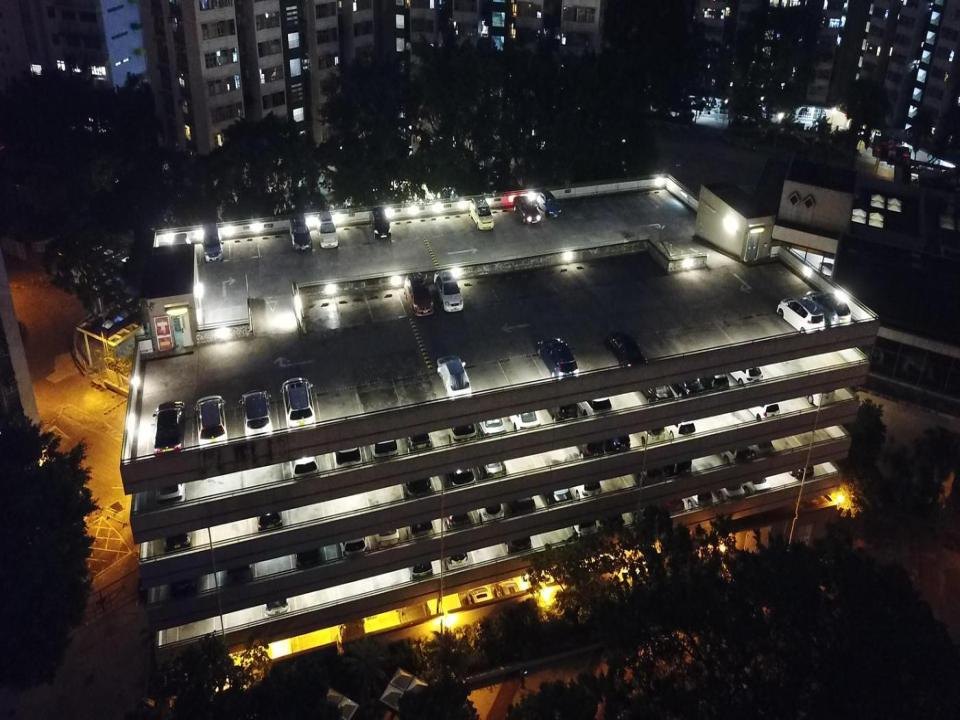car: (280, 376, 317, 435), (776, 296, 827, 337), (536, 336, 579, 384), (803, 290, 852, 332), (152, 400, 188, 457), (328, 420, 364, 477), (238, 388, 274, 443), (194, 394, 228, 452), (604, 332, 648, 372), (666, 361, 706, 404), (162, 507, 195, 559), (436, 355, 473, 401), (635, 368, 675, 410), (154, 457, 186, 509), (398, 460, 434, 506), (712, 430, 751, 472), (395, 588, 432, 632), (288, 433, 320, 483), (368, 417, 399, 467), (438, 494, 473, 538), (166, 556, 199, 602), (726, 351, 763, 392), (444, 448, 478, 492), (445, 405, 478, 450), (334, 518, 368, 561), (253, 488, 283, 536), (506, 396, 542, 436), (404, 271, 435, 317), (290, 526, 322, 570), (575, 385, 613, 422), (569, 464, 604, 504), (629, 452, 664, 492), (223, 543, 254, 588), (436, 529, 468, 572), (402, 412, 433, 456), (540, 471, 574, 511), (262, 578, 291, 624), (544, 388, 579, 426), (403, 503, 435, 544), (741, 426, 776, 463), (632, 411, 665, 450), (744, 389, 780, 424), (434, 270, 464, 312), (662, 410, 696, 447), (461, 579, 494, 617), (405, 540, 434, 583), (477, 402, 508, 442), (372, 510, 400, 554), (505, 483, 538, 520), (337, 610, 366, 652), (627, 490, 661, 525), (713, 471, 746, 506), (681, 477, 713, 513), (476, 447, 506, 485), (700, 362, 730, 400), (662, 445, 692, 482), (654, 483, 684, 520), (476, 491, 506, 527), (596, 501, 626, 537), (740, 464, 770, 500), (492, 574, 522, 609), (569, 510, 599, 544), (784, 446, 814, 480), (603, 420, 631, 456), (573, 430, 604, 462), (289, 212, 313, 251), (503, 522, 532, 554), (512, 195, 542, 224), (536, 190, 562, 219), (369, 207, 391, 238)
van: (797, 364, 836, 408), (316, 209, 338, 249), (201, 222, 223, 262), (469, 195, 494, 230), (168, 233, 192, 269)
